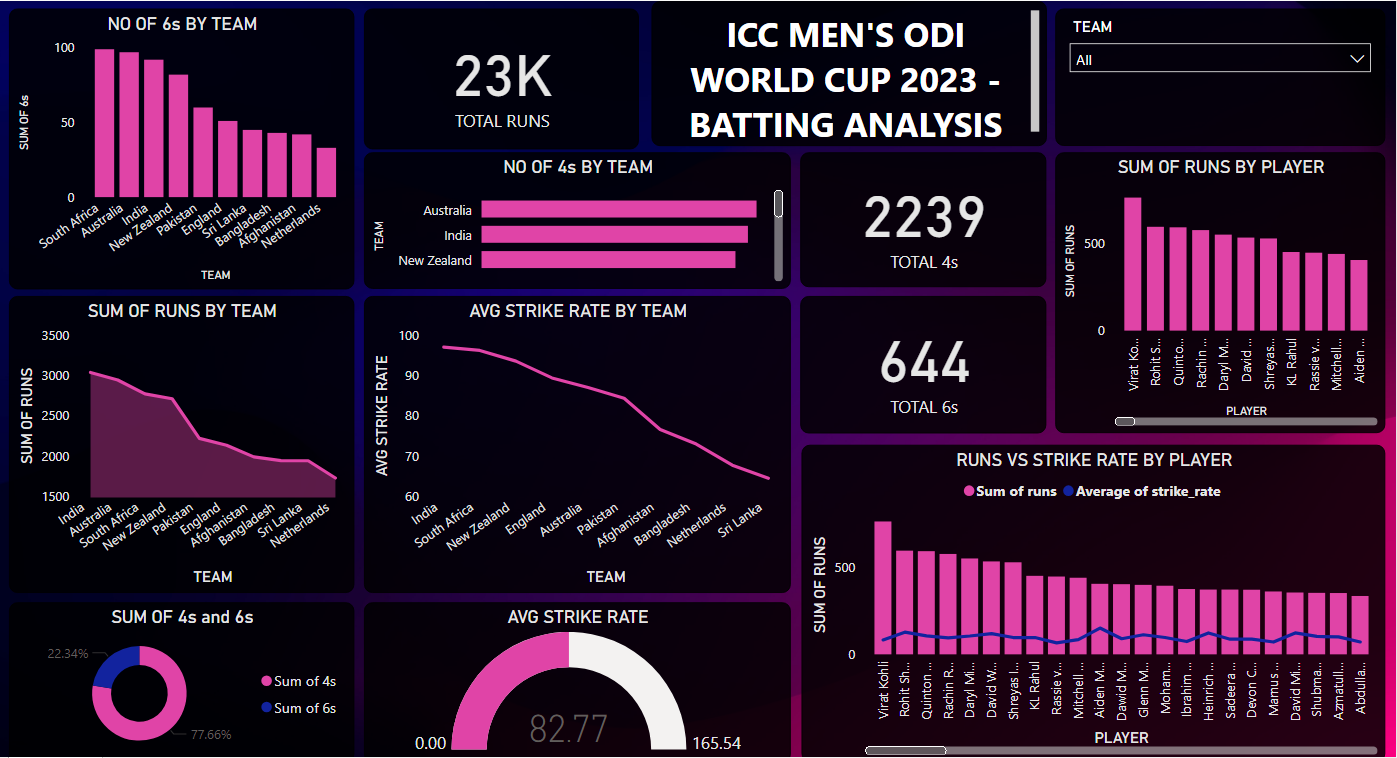

This screenshot's page, from the dashboard's own definition file:
{"tool":"powerbi","page":{"name":"Page 1","canvas":[1280,720],"ordinal":0},"visuals":[{"type":"columnChart","title":"NO OF 6s BY TEAM","fields":{"Y":["icc_wc_23_bat.6s"],"Category":["icc_wc_23_bat.team"]},"box":[9.6,6.9,325.2,264.8],"z":0},{"type":"areaChart","title":"SUM OF RUNS BY TEAM","fields":{"Category":["icc_wc_23_bat.team"],"Y":["icc_wc_23_bat.runs"]},"box":[9.6,278.6,325.2,279.9],"z":1000},{"type":"donutChart","title":"SUM OF 4s and 6s","fields":{"Y":["icc_wc_23_bat.4s","icc_wc_23_bat.6s"]},"box":[9.6,566.7,325.2,150.9],"z":2000},{"type":"card","fields":{"Values":["icc_wc_23_bat.runs"]},"box":[344.4,6.9,259.3,133.1],"z":3000},{"type":"barChart","title":"NO OF 4s BY TEAM","fields":{"Category":["icc_wc_23_bat.team"],"Y":["icc_wc_23_bat.4s"]},"box":[344.4,142.7,402.1,129],"z":4000},{"type":"gauge","title":"AVG STRIKE RATE","fields":{"Y":["icc_wc_23_bat.strike_rate"]},"box":[344.4,566.7,402.1,150.9],"z":5000},{"type":"lineChart","title":"AVG STRIKE RATE BY TEAM","fields":{"Category":["icc_wc_23_bat.team"],"Y":["icc_wc_23_bat.strike_rate"]},"box":[344.4,278.6,402.1,279.9],"z":6000},{"type":"columnChart","title":"SUM OF RUNS BY PLAYER","fields":{"Category":["icc_wc_23_bat.player"],"Y":["icc_wc_23_bat.runs"]},"box":[996.2,142.7,284,264.8],"z":7000},{"type":"lineStackedColumnComboChart","title":"RUNS VS STRIKE RATE BY PLAYER","fields":{"Category":["icc_wc_23_bat.player"],"Y":["icc_wc_23_bat.runs"],"Y2":["icc_wc_23_bat.strike_rate"]},"box":[756.1,418.5,524.2,299.1],"z":8000},{"type":"card","fields":{"Values":["icc_wc_23_bat.6s"]},"box":[755.7,278.5,232.1,129.7],"z":9000},{"type":"card","fields":{"Values":["icc_wc_23_bat.4s"]},"box":[755.7,142.8,232.1,127.3],"z":10000},{"type":"slicer","fields":{"Values":["icc_wc_23_bat.team"]},"box":[996.1,7.1,283.2,129.7],"z":11000},{"type":"textbox","box":[615.3,0,372.5,136.9],"z":12000}]}

Visuals, with their boxes on the page's 1280x720 design canvas (x1, y1, x2, y2). These are canvas units, not pixel positions in the 1397x758 screenshot, which may show the page scaled, cropped or inside an application window:
"NO OF 6s BY TEAM" columnChart: 10,7,335,272
"SUM OF RUNS BY TEAM" areaChart: 10,279,335,558
"SUM OF 4s and 6s" donutChart: 10,567,335,718
card - icc_wc_23_bat.runs: 344,7,604,140
"NO OF 4s BY TEAM" barChart: 344,143,746,272
"AVG STRIKE RATE" gauge: 344,567,746,718
"AVG STRIKE RATE BY TEAM" lineChart: 344,279,746,558
"SUM OF RUNS BY PLAYER" columnChart: 996,143,1280,408
"RUNS VS STRIKE RATE BY PLAYER" lineStackedColumnComboChart: 756,418,1280,718
card - icc_wc_23_bat.6s: 756,278,988,408
card - icc_wc_23_bat.4s: 756,143,988,270
slicer - icc_wc_23_bat.team: 996,7,1279,137
textbox: 615,0,988,137
